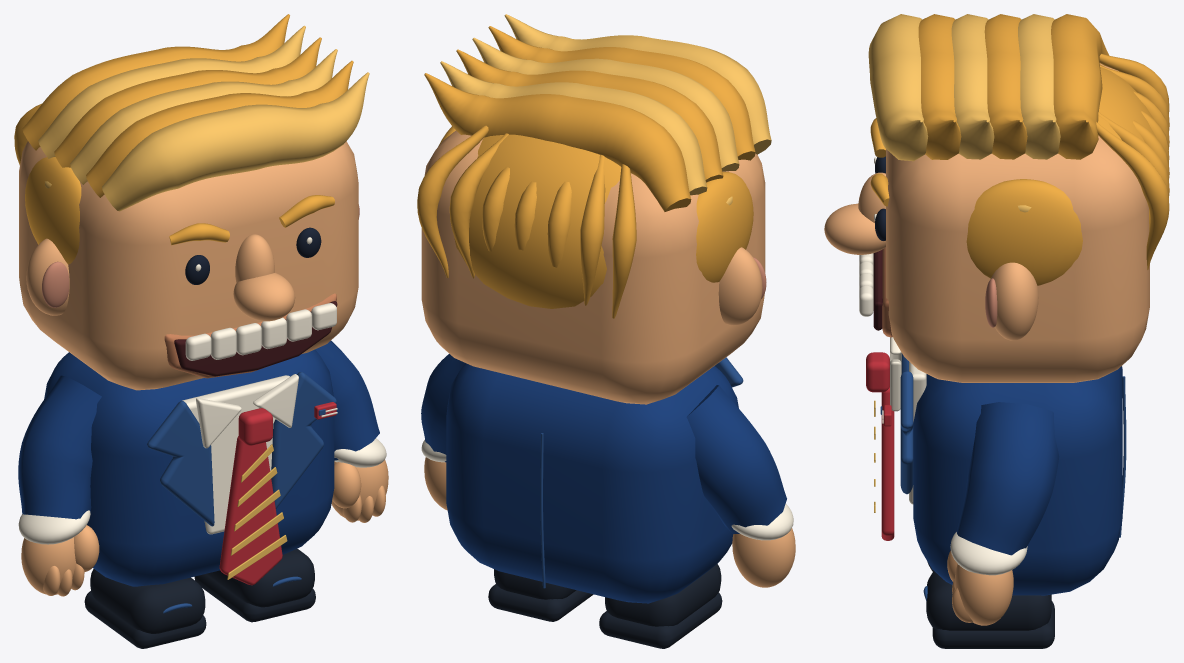
The model's file is boss.glb.
3 views of the same model, side by side, from view 1: azimuth 30°, elevation 25°; view 2: azimuth 150°, elevation 25°; view 3: azimuth 270°, elevation 25° (orthographic). The views are drawn at different scales.
Parts seen in each view (by area): view 1: boss_warm_vinyl, boss_satin_clothing, boss_hair_ribbons, boss_hair, boss_ivory, boss_shoes, boss_trim, boss_red, boss_mouth, boss_gold, boss_eyes, boss_ear_inset (+1 smaller); view 2: boss_satin_clothing, boss_hair, boss_warm_vinyl, boss_hair_ribbons, boss_shoes, boss_ivory, boss_trim; view 3: boss_warm_vinyl, boss_satin_clothing, boss_hair, boss_hair_ribbons, boss_shoes, boss_ivory, boss_red, boss_trim, boss_mouth, boss_ear_inset, boss_lip.
Boxes of the visible parts, <box> form: boss_warm_vinyl: <box>19,141,388,596</box>; boss_satin_clothing: <box>18,340,379,586</box>; boss_hair_ribbons: <box>38,25,369,211</box>; boss_hair: <box>14,14,353,264</box>; boss_ivory: <box>18,237,386,544</box>; boss_shoes: <box>84,548,315,648</box>; boss_trim: <box>147,372,336,613</box>; boss_red: <box>219,402,336,585</box>; boss_mouth: <box>174,301,337,376</box>; boss_gold: <box>227,444,287,579</box>; boss_eyes: <box>185,227,321,284</box>; boss_ear_inset: <box>42,204,359,307</box>; boss_satin_clothing: <box>421,354,786,603</box>; boss_hair: <box>417,26,755,318</box>; boss_warm_vinyl: <box>421,130,795,587</box>; boss_hair_ribbons: <box>440,14,771,205</box>; boss_shoes: <box>488,564,722,648</box>; boss_ivory: <box>421,440,793,540</box>; boss_trim: <box>540,357,743,588</box>; boss_warm_vinyl: <box>824,63,1149,625</box>; boss_satin_clothing: <box>913,366,1122,595</box>; boss_hair: <box>870,14,1169,285</box>; boss_hair_ribbons: <box>868,14,1060,212</box>; boss_shoes: <box>926,561,1054,648</box>; boss_ivory: <box>859,157,1027,575</box>; boss_red: <box>866,352,894,540</box>; boss_trim: <box>880,353,1126,601</box>; boss_mouth: <box>873,249,882,330</box>; boss_ear_inset: <box>985,278,997,327</box>; boss_lip: <box>882,247,892,337</box>.
Bounding box in the file's own units: 1.35 × 1.91 × 1.07.
